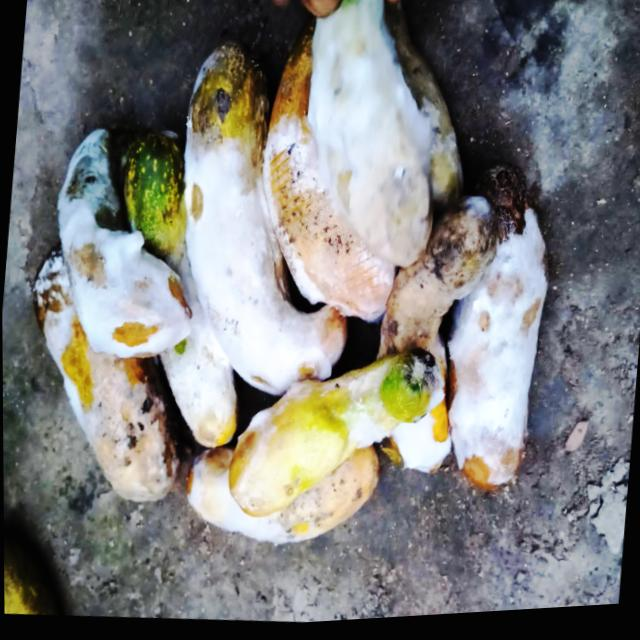Pythium-Fruit-Rot: (8, 0, 569, 583)
